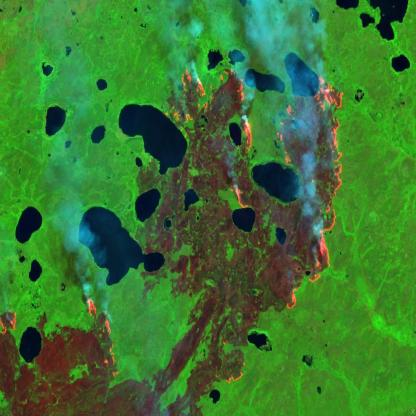fire: (280, 75, 344, 320), (163, 63, 246, 137), (79, 298, 121, 384), (213, 363, 247, 392), (238, 112, 256, 156), (0, 306, 21, 335), (209, 330, 238, 350), (232, 180, 251, 210)
